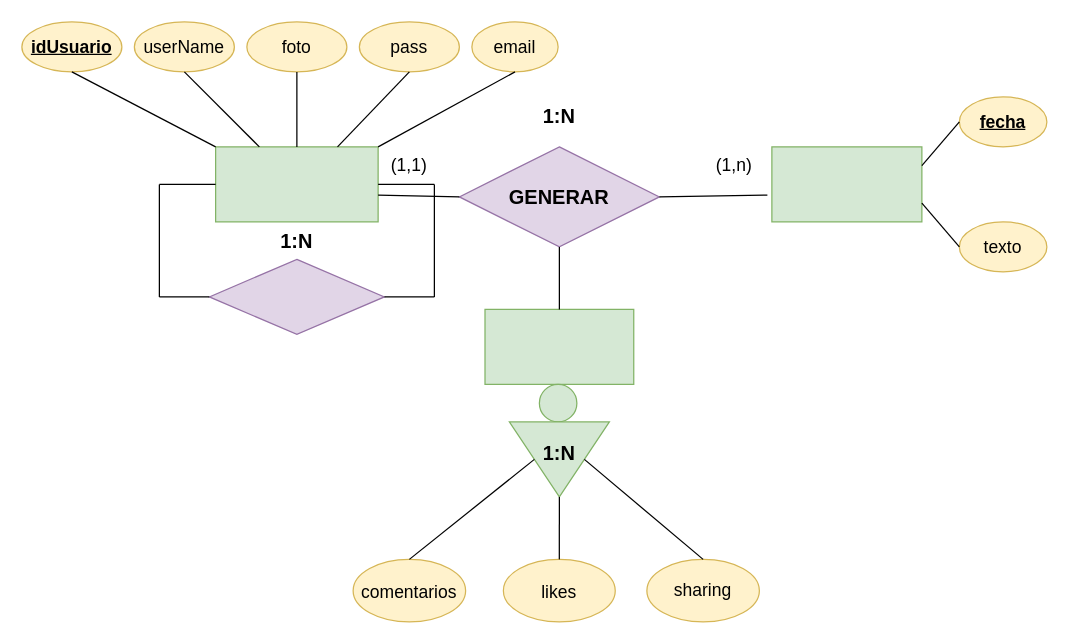
Image size: 1069x644. Some labels were removed from this diagram. The centre of each missing label's shape, as x and y in pixels:
"FEEDBACK" goes at point 559,346.
"POSTS" goes at point 846,184.
"SEGUIR" goes at point 296,296.
"USUARIOS" goes at point 296,184.
